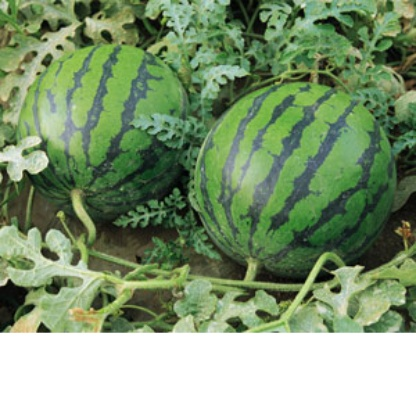duahau: (192, 56, 396, 276), (13, 37, 198, 219)
